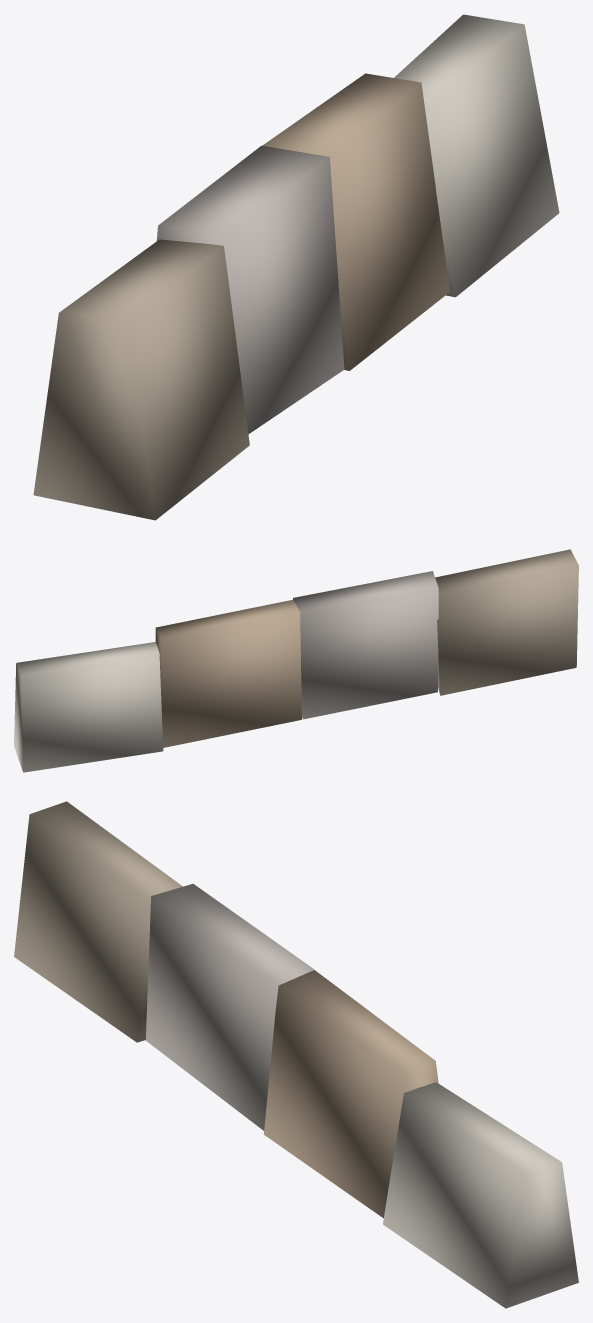
The model's file is farm_-1_-1_far.glb.
3 renders of one model, top to bottom at view 1: azimuth 30°, elevation 25°; view 2: azimuth 150°, elevation 25°; view 3: azimuth 270°, elevation 25°, orthographic. The views are drawn at different scales.
Visible parts, largest first — view 1: geometry_0; view 2: geometry_0; view 3: geometry_0.
Part boxes in pixels (x1,y1,x2,y2): geometry_0: (33, 14, 559, 520); geometry_0: (14, 549, 578, 772); geometry_0: (14, 801, 578, 1308).
Bounding box in the file's own units: 5.38 × 2.07 × 4.57.
